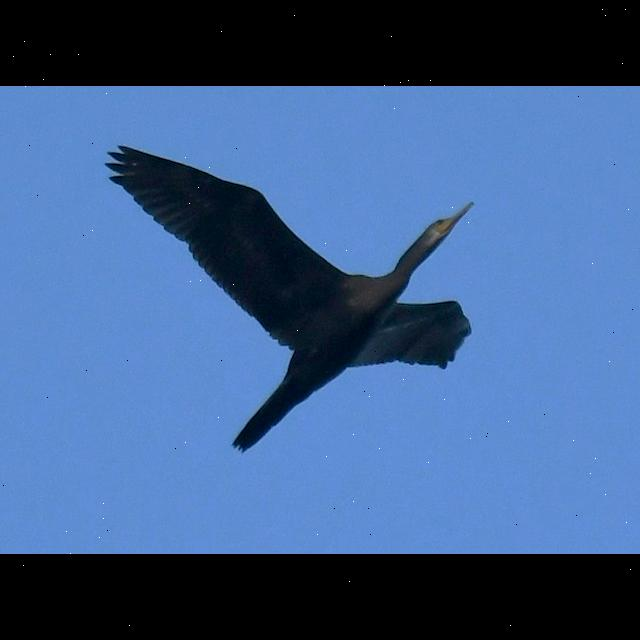cormorant: (106, 129, 480, 459)
